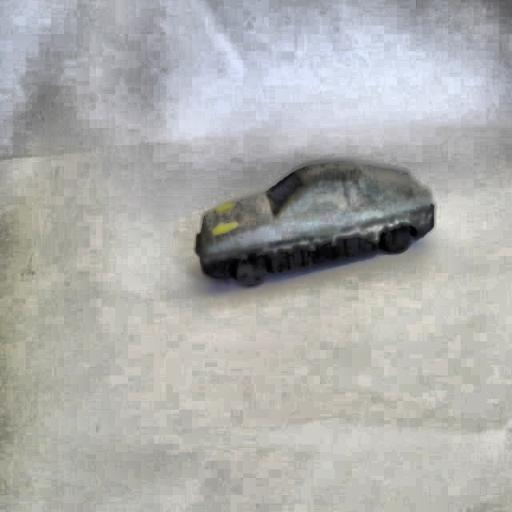normal_car: (185, 154, 442, 296)
